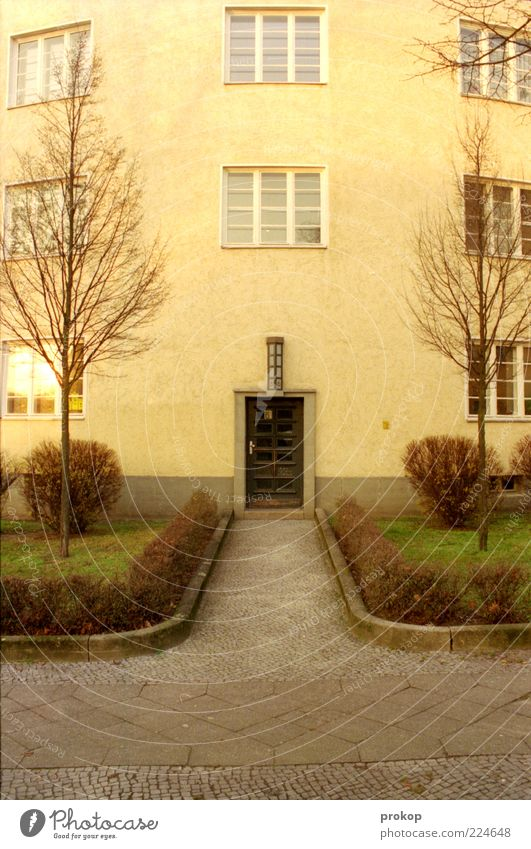bush: (390, 431, 502, 538), (24, 435, 123, 542)
tree: (22, 48, 166, 559), (407, 124, 529, 555)
